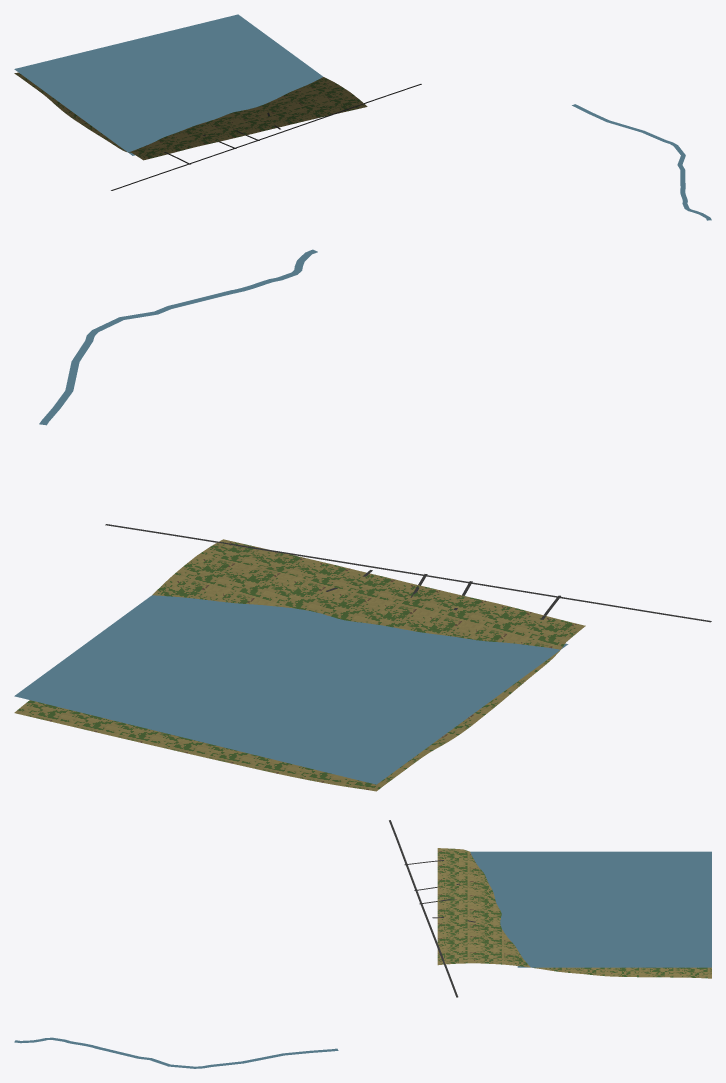
Rendered from tile_19_-43.gltf.
3 views of the same model, one above another, from view 1: azimuth 30°, elevation 25°; view 2: azimuth 150°, elevation 25°; view 3: azimuth 270°, elevation 25° (orthographic). The views are drawn at different scales.
Visible parts, largest first — view 1: Water, Terrain_col, Roads; view 2: Water, Terrain_col, Roads; view 3: Water, Terrain_col, Roads.
Boxes of the visible parts, bbox=[...] form: Water: bbox=[14, 14, 711, 220]; Terrain_col: bbox=[14, 72, 367, 160]; Roads: bbox=[111, 84, 421, 190]; Water: bbox=[14, 249, 568, 784]; Terrain_col: bbox=[14, 539, 585, 791]; Roads: bbox=[105, 524, 711, 622]; Water: bbox=[14, 851, 711, 1068]; Terrain_col: bbox=[437, 848, 711, 978]; Roads: bbox=[389, 820, 475, 997].
Size of the model in its own units: 542 by 16.66 by 651.
Materials: 3 (2 with a texture image).
